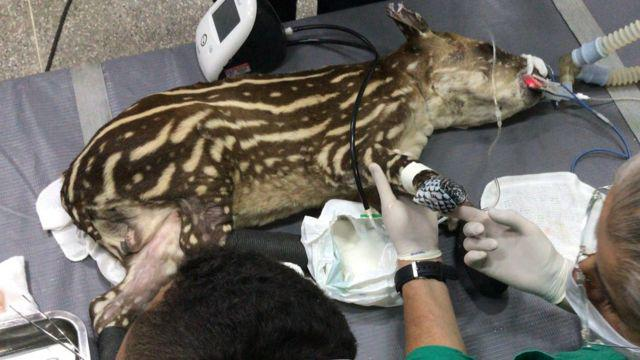Anta: (67, 15, 550, 245)
